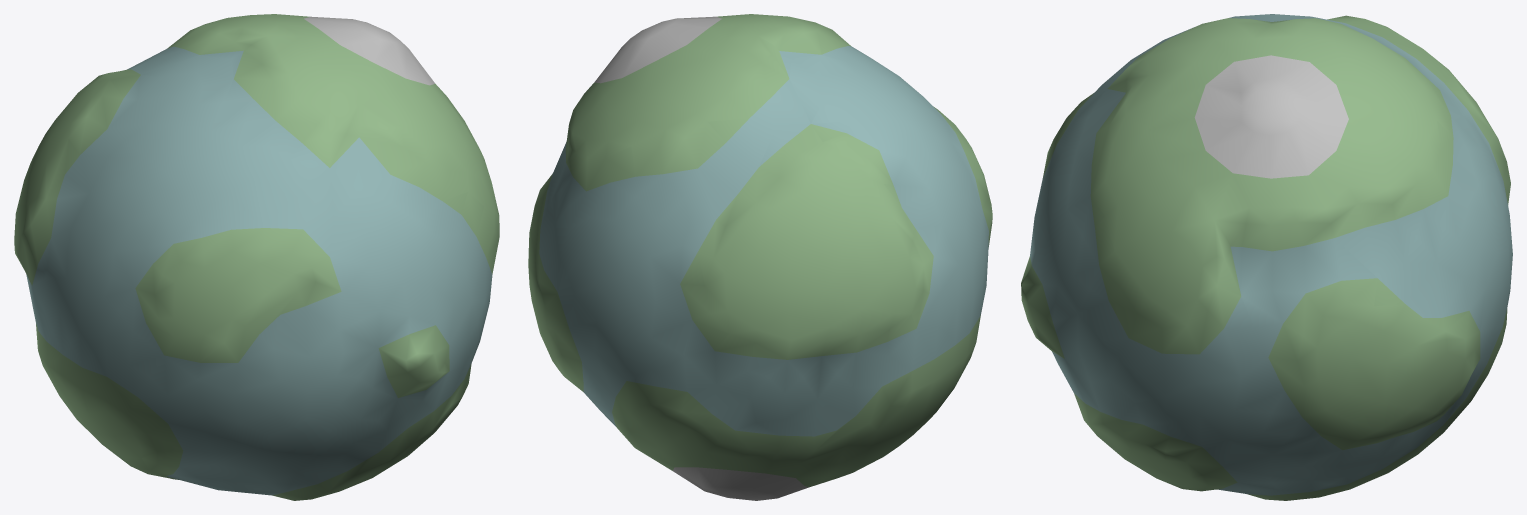
Rendered from space-planet-1.glb.
3 views of the same model, side by side, from view 1: azimuth 30°, elevation 25°; view 2: azimuth 150°, elevation 25°; view 3: azimuth 270°, elevation 25° (orthographic). The views are drawn at different scales.
Parts seen in each view (by area): view 1: space-planet-1; view 2: space-planet-1; view 3: space-planet-1.
Part boxes in pixels (box(x1,y1,x2,y2)): space-planet-1: box(14, 14, 499, 500); space-planet-1: box(528, 14, 992, 500); space-planet-1: box(1021, 14, 1512, 500).
Bounding box in the file's own units: 2.89 × 3 × 2.91.
